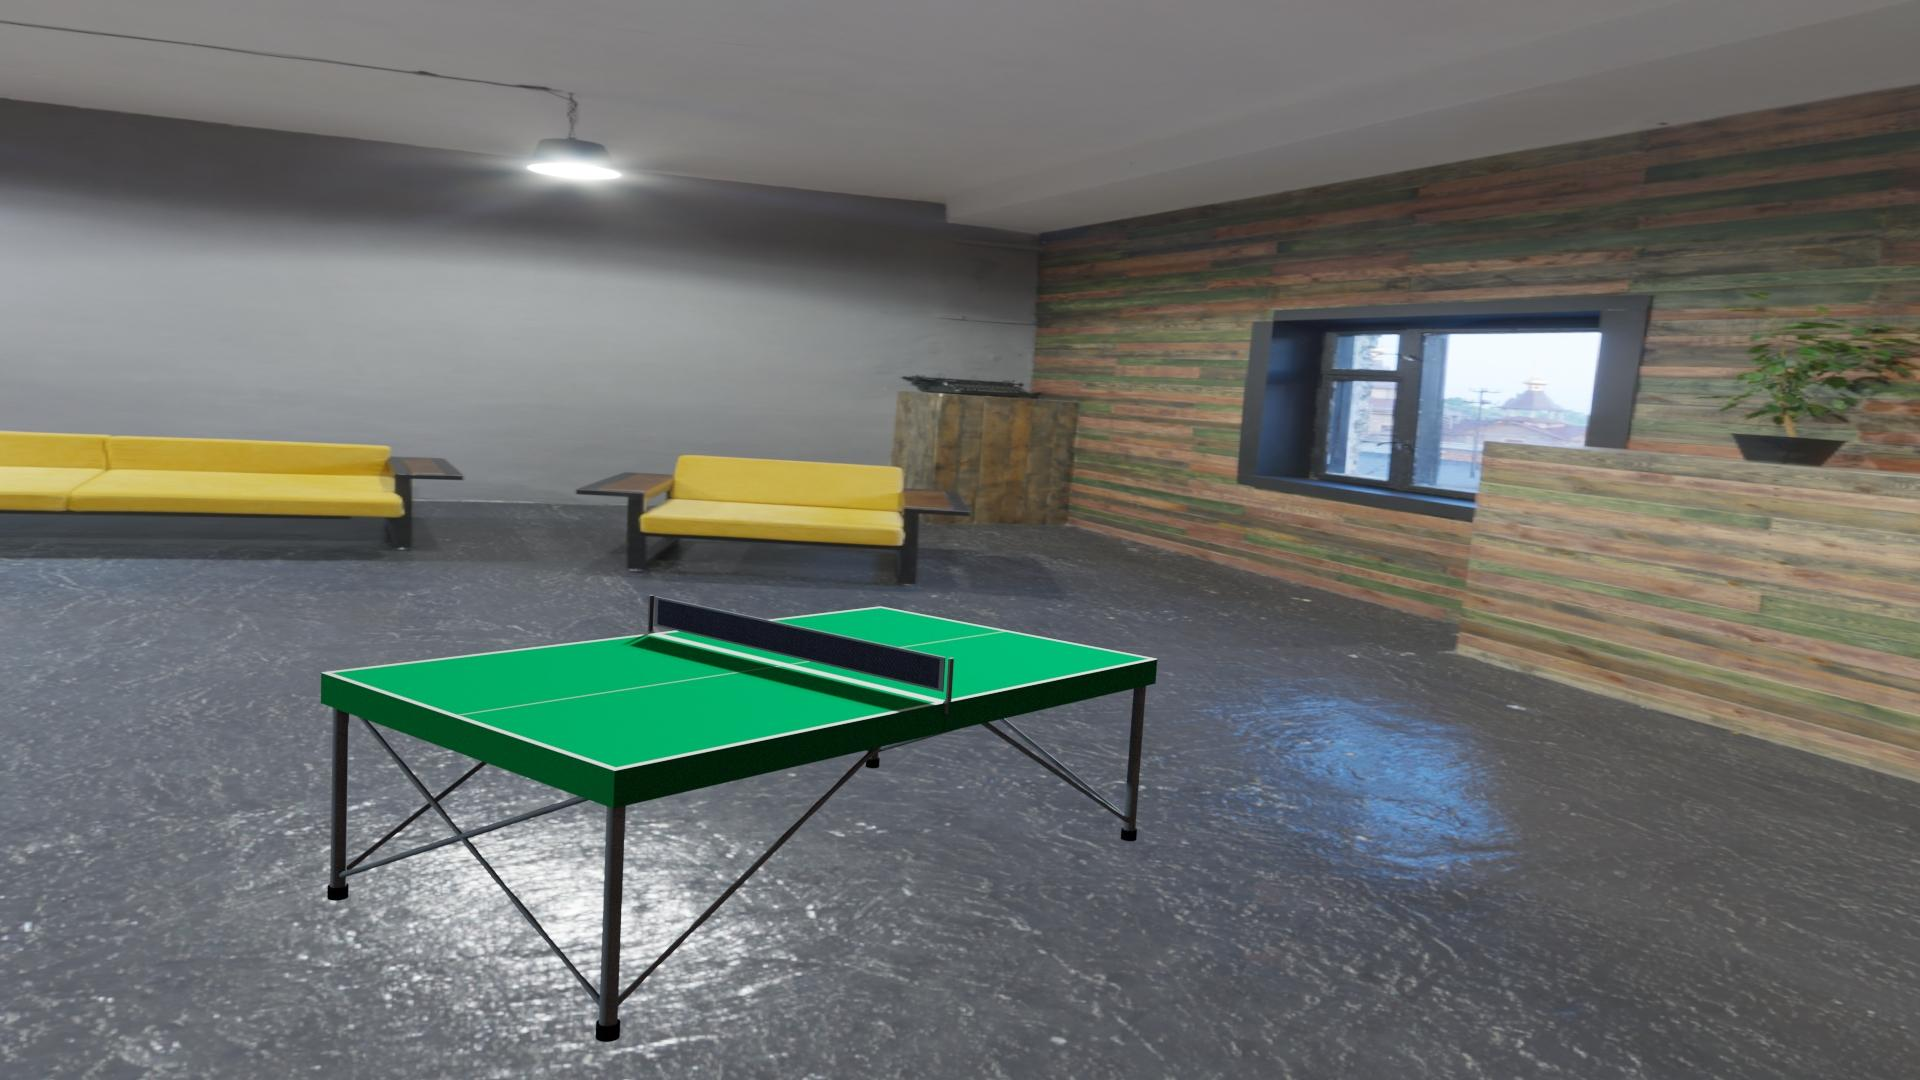table: (330, 608, 1151, 767)
